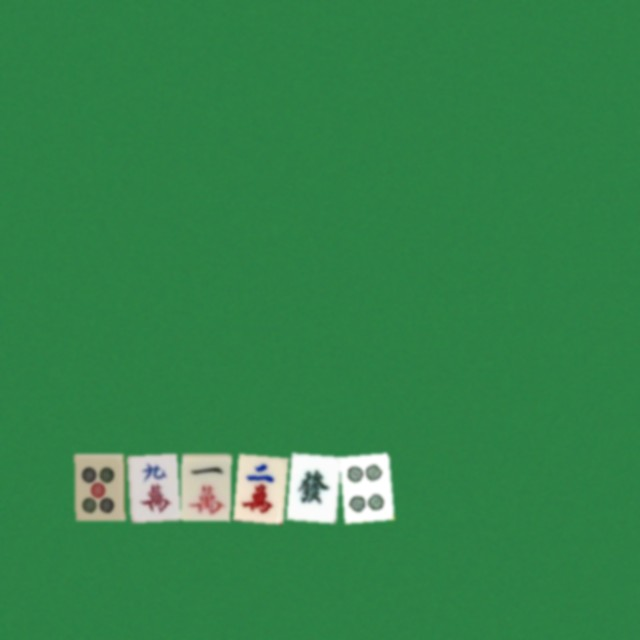tile: (74, 453, 124, 520), (127, 453, 177, 520), (180, 453, 230, 520), (233, 453, 283, 520), (286, 453, 336, 520), (339, 453, 389, 520)
